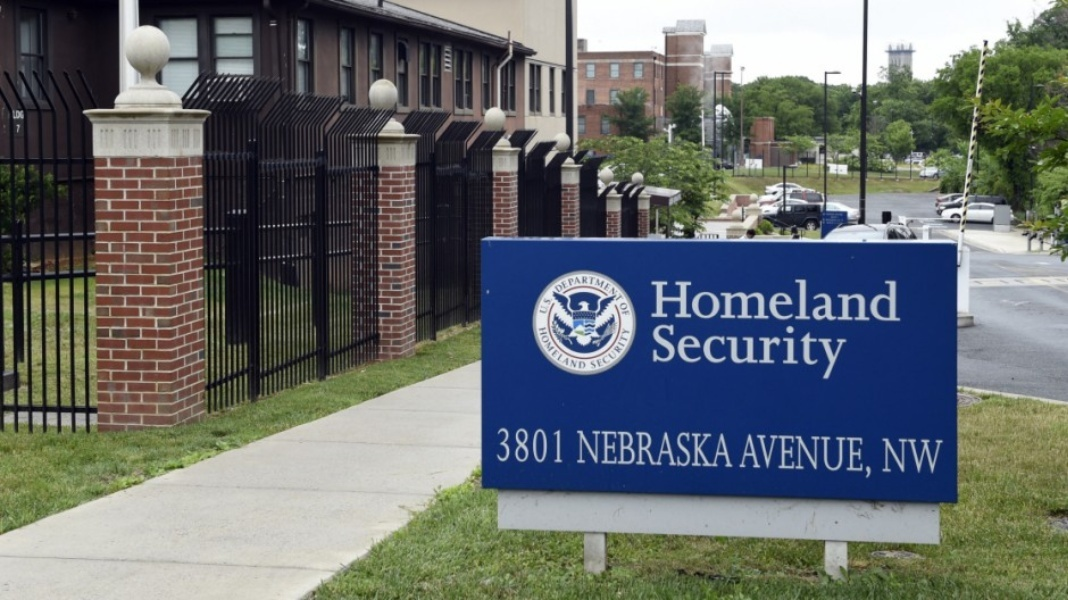text: (561, 327, 576, 388), (577, 327, 592, 388), (657, 322, 672, 380), (673, 322, 688, 380), (689, 322, 704, 380), (705, 322, 720, 380), (721, 322, 736, 380), (737, 322, 752, 380), (753, 322, 768, 380), (769, 322, 784, 380), (785, 322, 800, 380), (801, 322, 816, 380), (817, 322, 832, 380), (833, 322, 848, 380), (546, 327, 560, 388), (593, 328, 608, 383), (609, 328, 624, 383), (625, 328, 638, 383), (753, 433, 768, 479), (769, 433, 784, 479), (785, 433, 800, 479), (801, 433, 816, 479), (817, 433, 832, 479), (833, 433, 848, 479), (849, 433, 864, 479), (657, 278, 672, 322), (673, 278, 688, 322), (689, 278, 704, 322), (705, 278, 720, 322), (721, 278, 736, 322), (737, 278, 752, 322), (753, 278, 768, 322), (769, 278, 784, 322), (785, 278, 800, 322), (801, 278, 816, 322), (817, 278, 832, 322), (833, 278, 848, 322), (849, 278, 864, 322), (865, 278, 880, 322), (881, 278, 896, 322), (577, 429, 592, 468), (593, 429, 608, 468), (609, 429, 624, 468), (625, 429, 640, 468), (641, 429, 656, 468), (657, 429, 672, 468), (673, 429, 688, 468), (689, 429, 704, 468), (705, 429, 720, 468), (897, 437, 912, 476), (913, 437, 928, 476), (929, 437, 944, 476), (882, 437, 896, 476), (545, 266, 560, 302), (561, 266, 576, 302), (577, 266, 592, 302), (593, 266, 608, 302), (609, 266, 624, 302), (497, 428, 512, 463), (513, 428, 528, 463), (529, 428, 544, 463), (545, 428, 560, 463), (721, 429, 733, 468), (625, 266, 636, 302), (849, 322, 855, 380), (865, 433, 872, 479), (545, 295, 560, 315), (650, 278, 656, 322), (652, 322, 656, 380), (747, 433, 752, 479), (589, 328, 592, 383), (897, 278, 899, 322), (625, 302, 631, 316), (542, 266, 544, 302), (561, 428, 563, 463), (619, 302, 624, 316), (593, 327, 594, 388)
